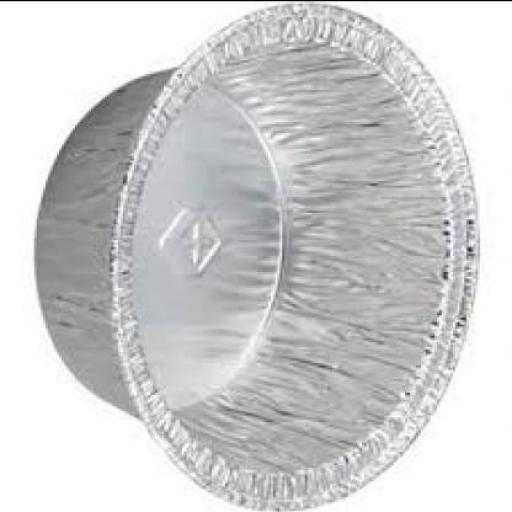metal: (39, 3, 482, 507)
